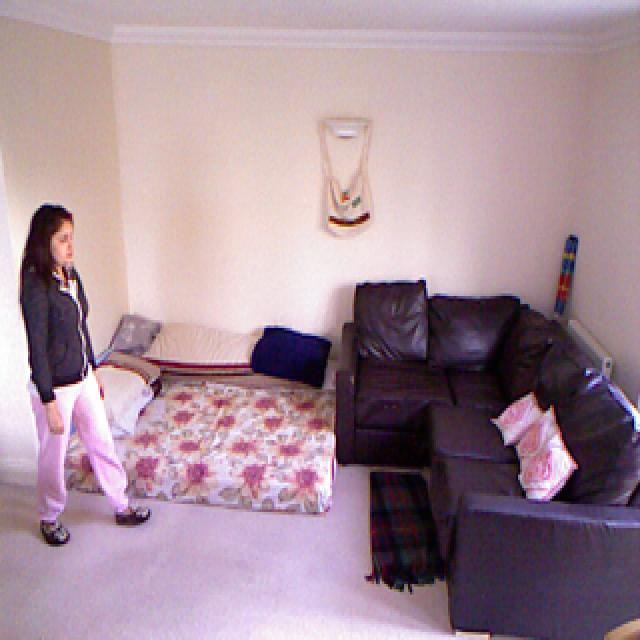standing: (20, 203, 151, 546)
